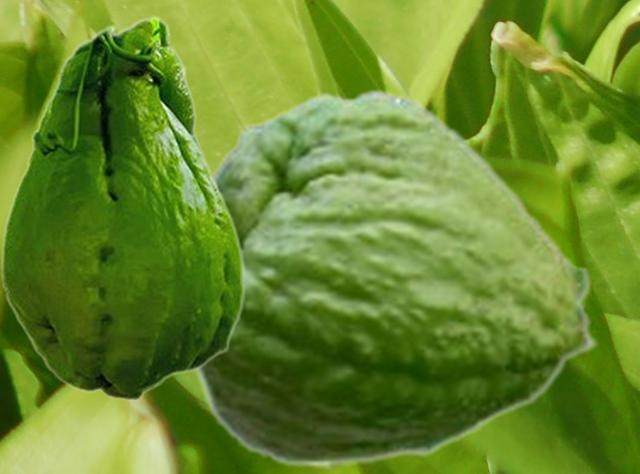sayote: (189, 87, 600, 468), (0, 15, 245, 401)
